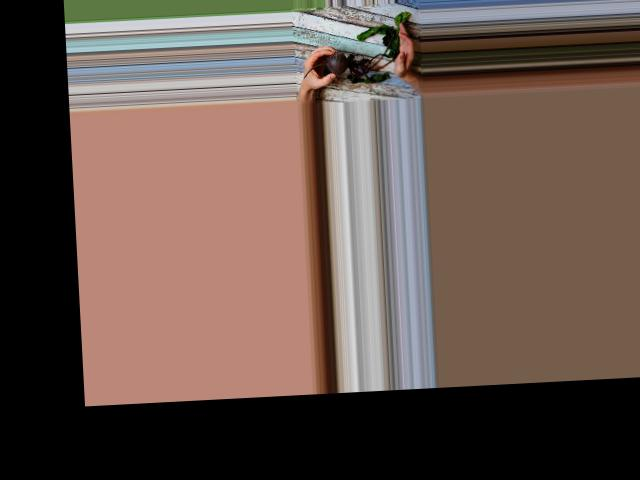beet: (300, 11, 413, 85)
